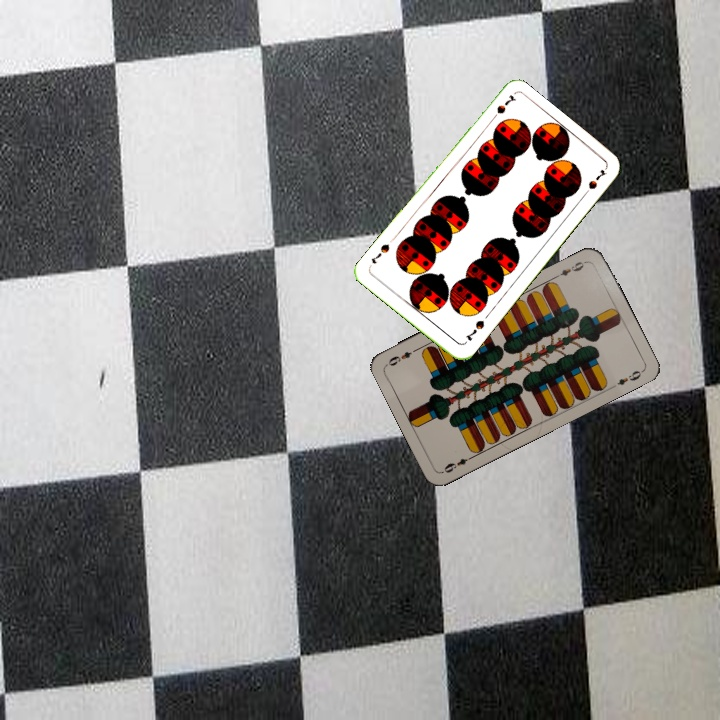E9: (551, 257, 590, 281), (440, 451, 477, 476)
S7: (486, 90, 518, 125), (462, 316, 487, 344)
